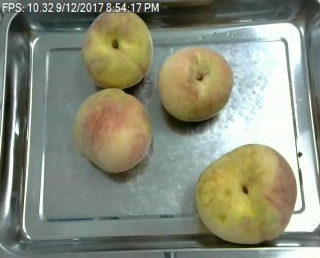Peach: (195, 142, 298, 245), (73, 88, 151, 172), (82, 7, 153, 89), (158, 45, 233, 121)
